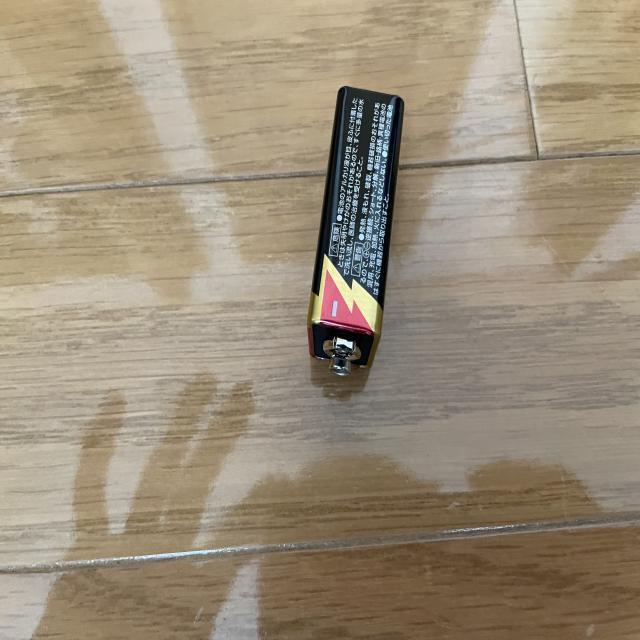9V: (307, 86, 406, 377)
